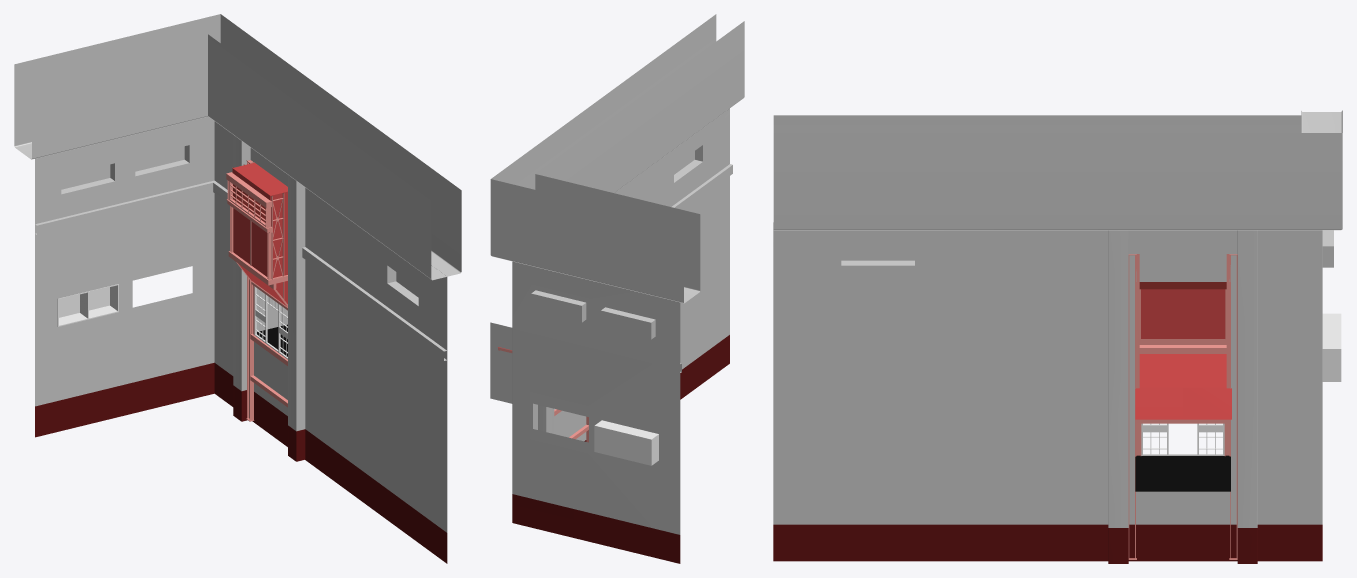
The model's file is SM_H_Building_Tide_Jail_E_01_ATLAS.fbx.
3 renders of one model, left to right at view 1: azimuth 30°, elevation 25°; view 2: azimuth 150°, elevation 25°; view 3: azimuth 270°, elevation 25°, orthographic. The views are drawn at different scales.
Parts seen in each view (by area): view 1: SM_H_Building_Tide_Jail_E_01_ATLAS; view 2: SM_H_Building_Tide_Jail_E_01_ATLAS; view 3: SM_H_Building_Tide_Jail_E_01_ATLAS.
Boxes of the visible parts, left/top/right/bottom form: SM_H_Building_Tide_Jail_E_01_ATLAS: left=14, top=14, right=461, bottom=563; SM_H_Building_Tide_Jail_E_01_ATLAS: left=490, top=14, right=744, bottom=563; SM_H_Building_Tide_Jail_E_01_ATLAS: left=773, top=110, right=1342, bottom=563.
Bounding box in the file's own units: 1617 × 2657 × 2250.
